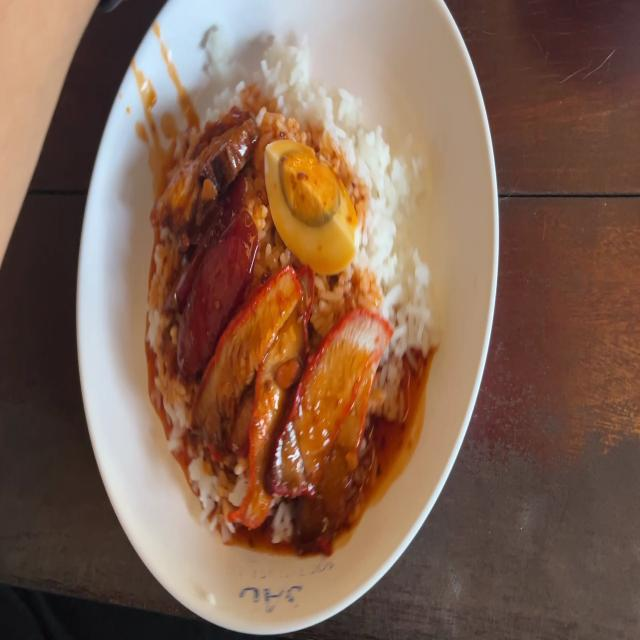red_pork_and_crispy_pork: (265, 135, 358, 267)
stir_fried_basil: (163, 190, 249, 344)
